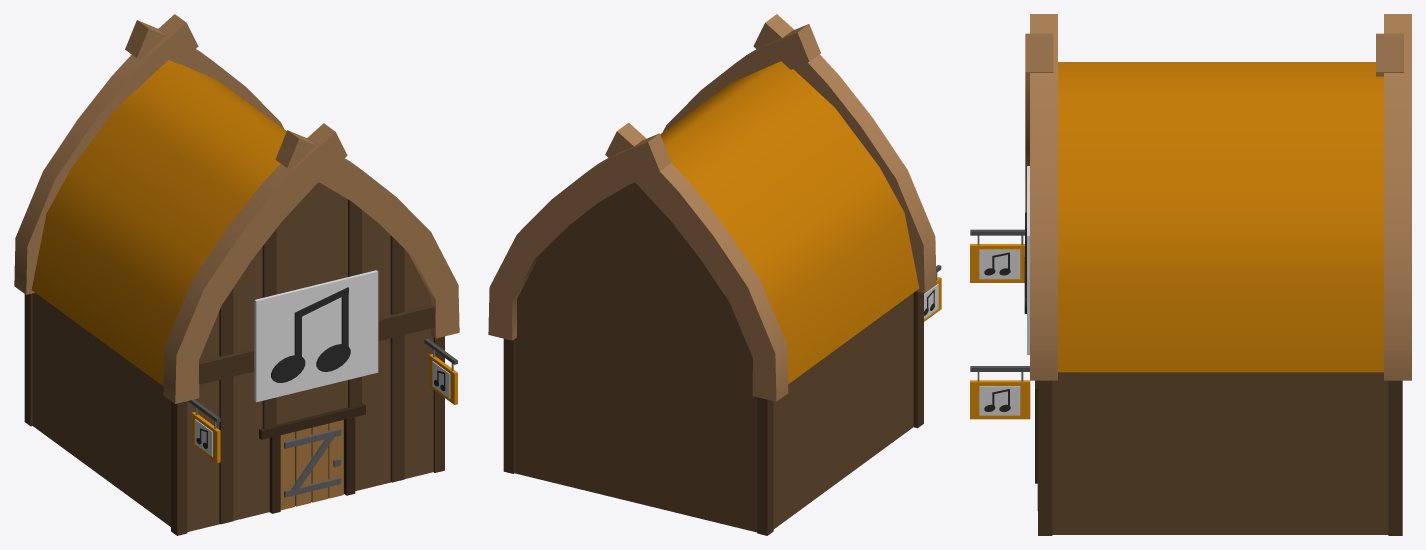
File: Music.fbx
3 views of the same model, side by side, from view 1: azimuth 30°, elevation 25°; view 2: azimuth 150°, elevation 25°; view 3: azimuth 270°, elevation 25° (orthographic). The views are drawn at different scales.
Visible parts, largest first — view 1: Music; view 2: Music; view 3: Music.
Boxes of the visible parts, x1=… form: Music: x1=14, y1=14, x2=459, y2=535; Music: x1=488, y1=14, x2=941, y2=535; Music: x1=970, y1=14, x2=1411, y2=535.
Bounding box in the file's own units: 2.8 × 3.47 × 3.18.
